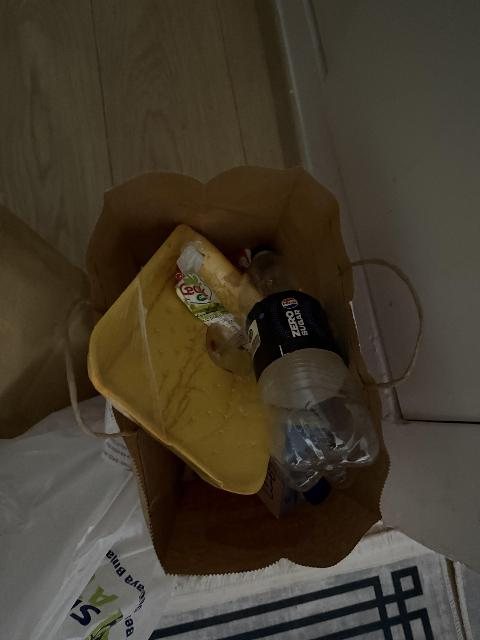Plastik: (239, 261, 368, 476), (176, 281, 231, 328)
